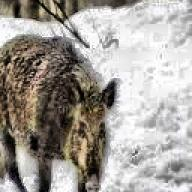boar: (0, 31, 118, 192)
